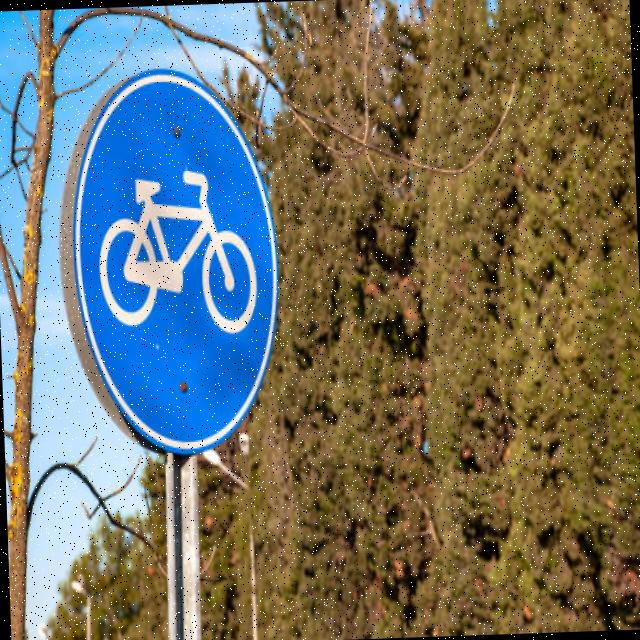bicycle: (60, 52, 302, 463)
